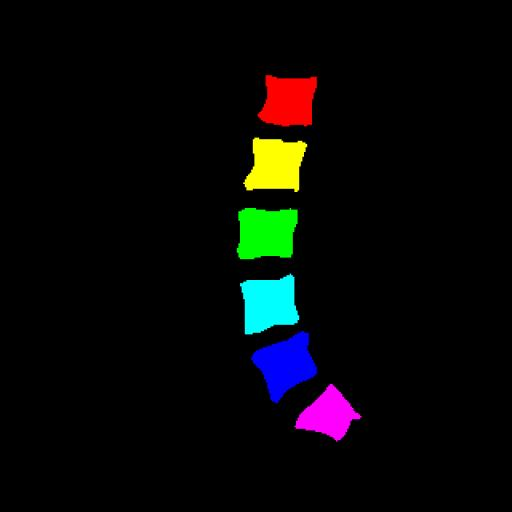L1: (258, 75, 317, 126)
L2: (244, 138, 307, 192)
L3: (237, 208, 298, 259)
L4: (240, 274, 299, 334)
L5: (252, 332, 317, 402)
S1: (295, 384, 361, 441)
